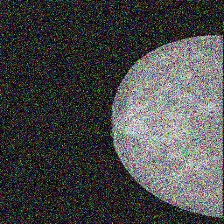Mass_1: (2, 106, 27, 126)
